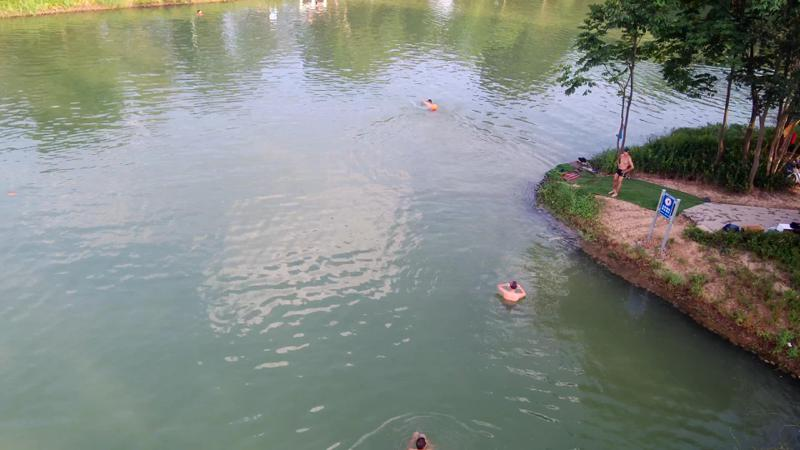sus_swimmers: (605, 147, 634, 198)
swimmers: (495, 278, 529, 304), (403, 430, 436, 450), (420, 94, 439, 113)
